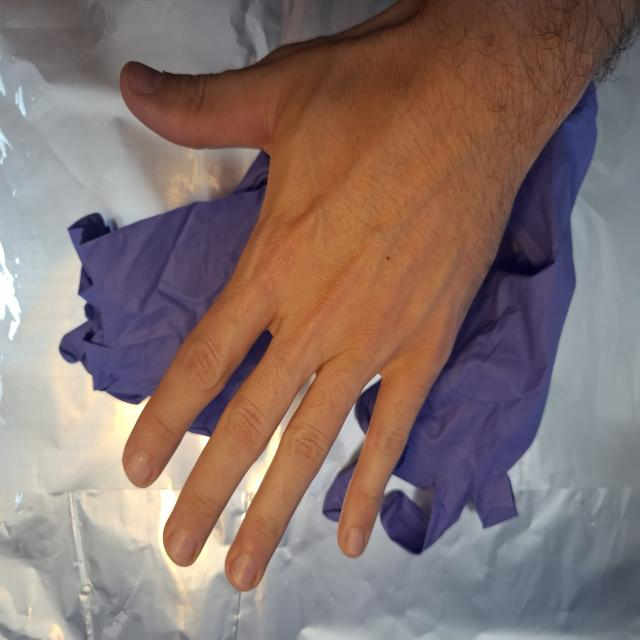glove_off: (117, 4, 538, 595)
